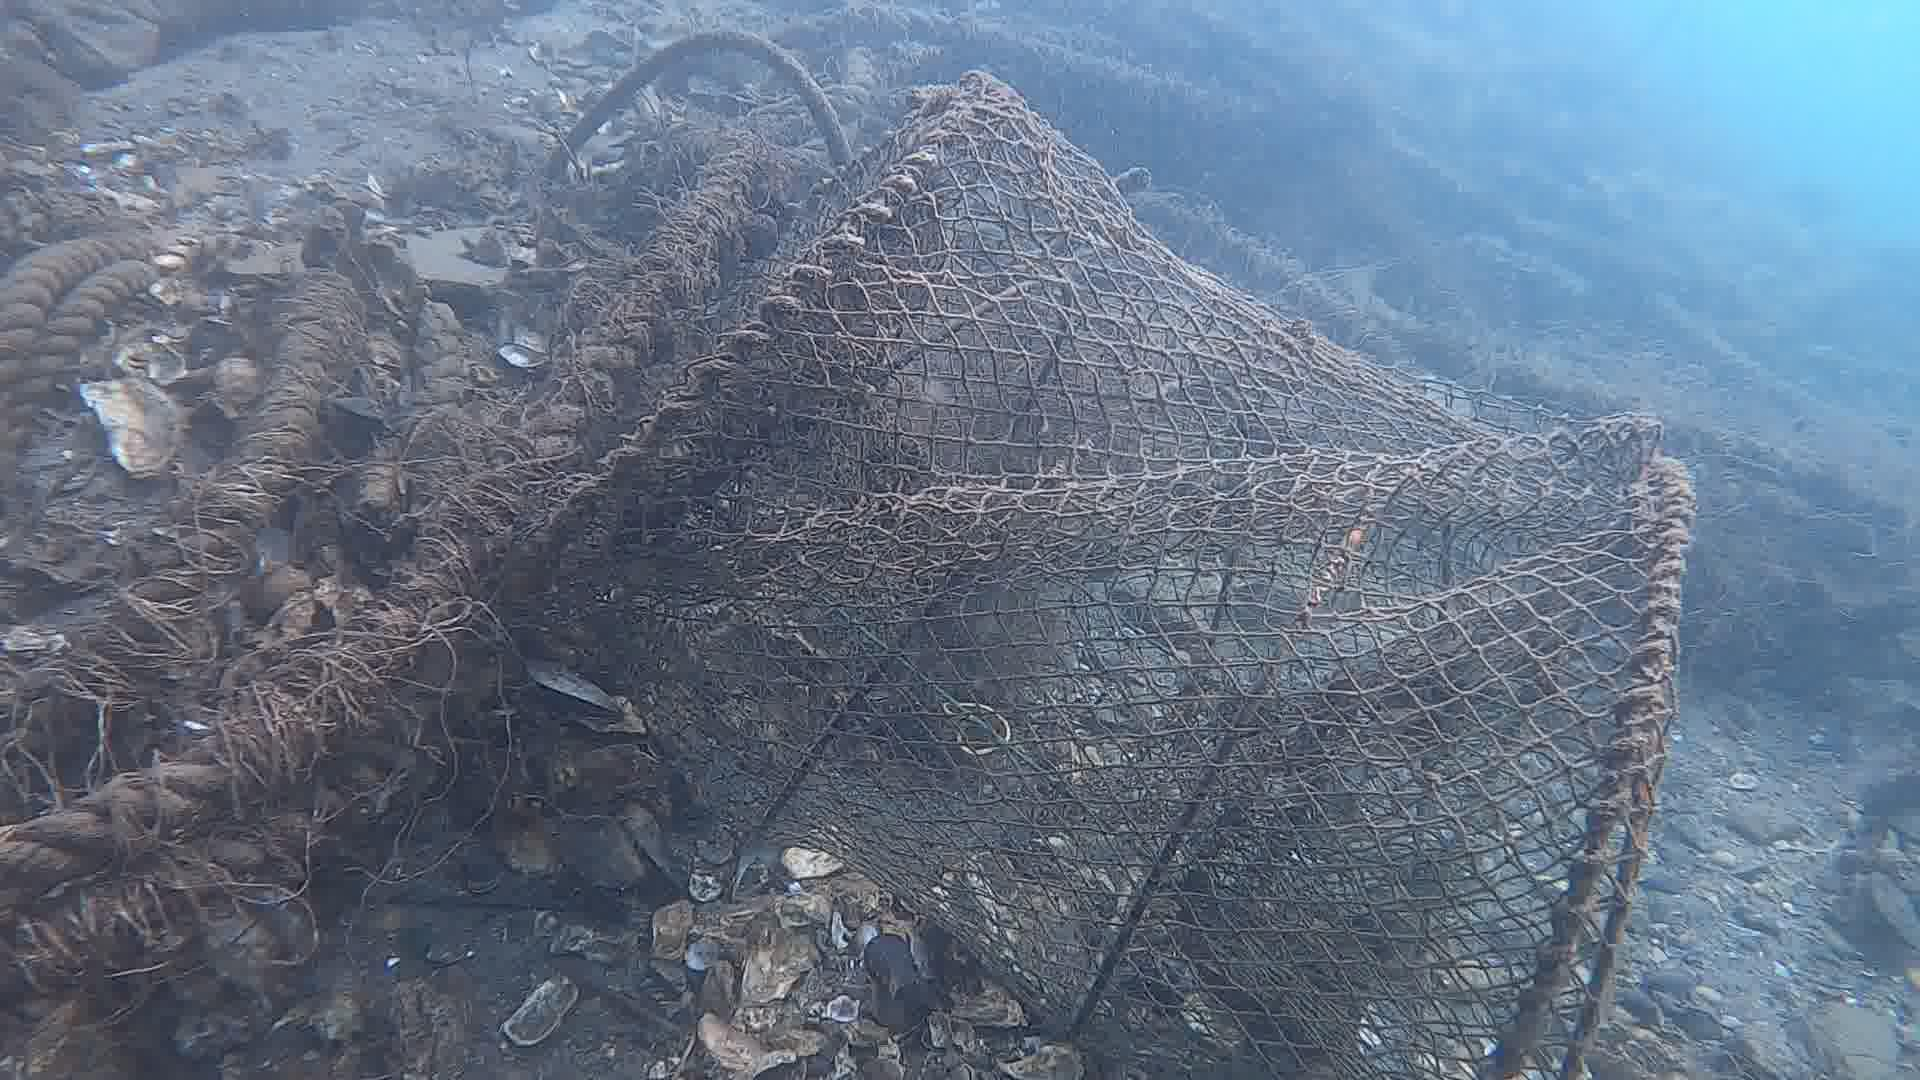bundle of ropes: (229, 298, 463, 467), (0, 229, 160, 465)
rope: (0, 748, 218, 907)
spring fish trap: (531, 69, 1693, 1080)
